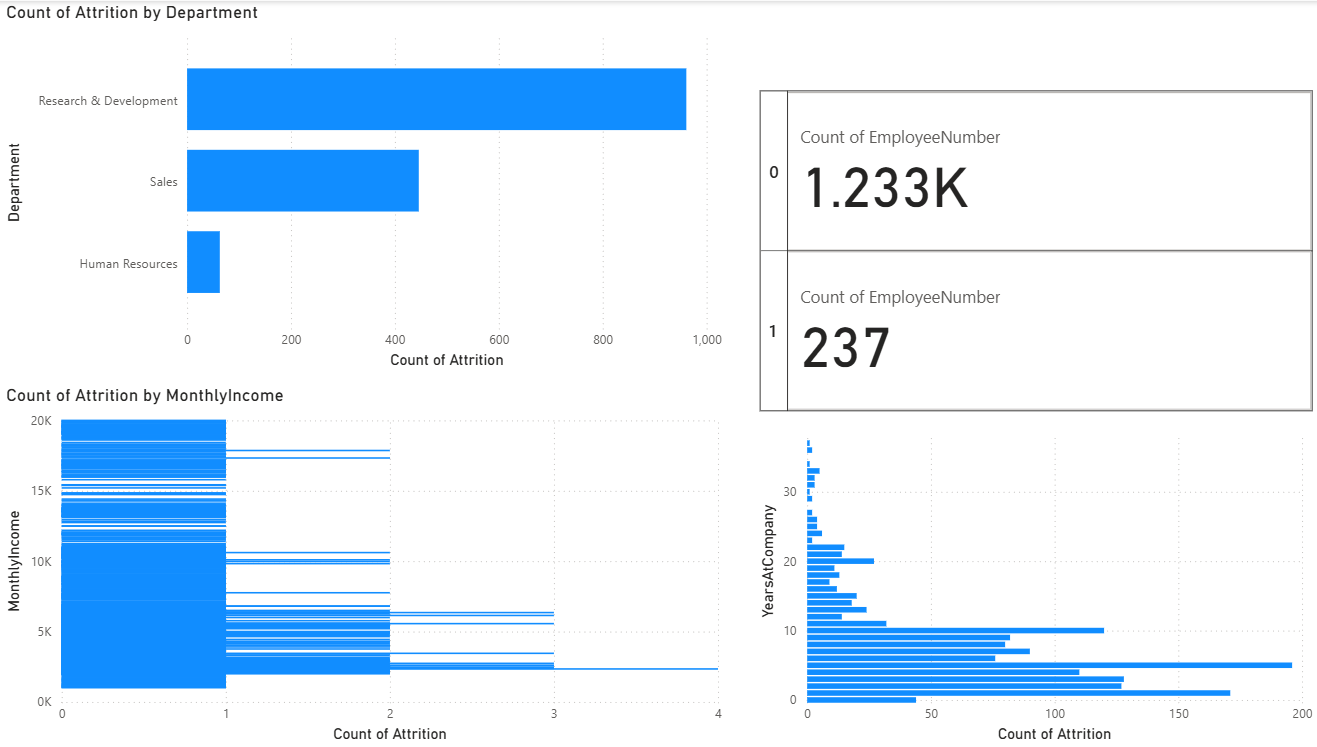

The page's visual inventory and layout, read from the dashboard file:
{"tool":"powerbi","page":{"name":"Page 1","canvas":[1280,720],"ordinal":0},"visuals":[{"type":"barChart","fields":{"Y":["CountNonNull(hr_dashboard_data.Attrition)"],"Category":["hr_dashboard_data.Department"]},"box":[9.6,0,701.2,359.5],"z":0},{"type":"barChart","fields":{"Category":["hr_dashboard_data.MonthlyIncome"],"Y":["CountNonNull(hr_dashboard_data.Attrition)"]},"box":[9.6,370.5,701.2,349.9],"z":1},{"type":"barChart","fields":{"Y":["CountNonNull(hr_dashboard_data.Attrition)"],"Category":["hr_dashboard_data.YearsAtCompany"]},"box":[736.9,370.5,543.4,349.9],"z":2},{"type":"cardVisual","fields":{"Rows":["hr_dashboard_data.Attrition"],"Data":["CountNonNull(hr_dashboard_data.EmployeeNumber)"]},"box":[737,62,543,360],"z":3}]}

Visuals, with their boxes in screenshot pixels (x1, y1, x2, y2), scaled from the page's 1280x720 canvas onto the 1317x747 screenshot:
barChart - CountNonNull(hr_dashboard_data.Attrition) x hr_dashboard_data.Department: detection(10, 0, 731, 373)
barChart - hr_dashboard_data.MonthlyIncome x CountNonNull(hr_dashboard_data.Attrition): detection(10, 384, 731, 746)
barChart - CountNonNull(hr_dashboard_data.Attrition) x hr_dashboard_data.YearsAtCompany: detection(758, 384, 1316, 746)
cardVisual - hr_dashboard_data.Attrition x CountNonNull(hr_dashboard_data.EmployeeNumber): detection(758, 64, 1316, 438)
